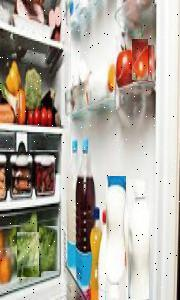Leche: (128, 180, 149, 300), (106, 176, 126, 300)
Lechuga/Endivia: (17, 232, 41, 277), (39, 226, 58, 271), (20, 215, 40, 242)
Tomate: (132, 39, 148, 80), (118, 48, 133, 82), (148, 45, 156, 81)
